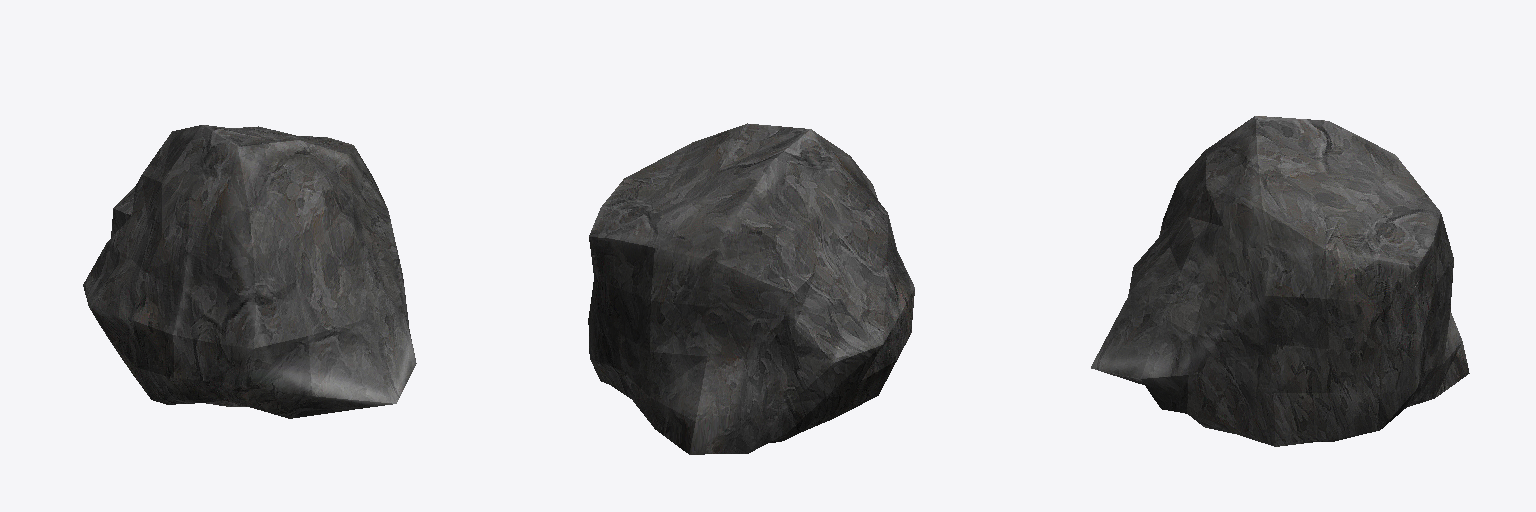
3 renders of one model, left to right at view 1: azimuth 30°, elevation 25°; view 2: azimuth 150°, elevation 25°; view 3: azimuth 270°, elevation 25°, orthographic.
Visible parts, largest first — view 1: rockLP01; view 2: rockLP01; view 3: rockLP01.
Boxes of the visible parts, box(x1,y1,x2,y2) form: rockLP01: box(83, 125, 416, 418); rockLP01: box(588, 123, 914, 454); rockLP01: box(1091, 116, 1469, 446).
Size of the model in its own units: 2.64 by 2.24 by 3.07.
1 materials, 1 textured.